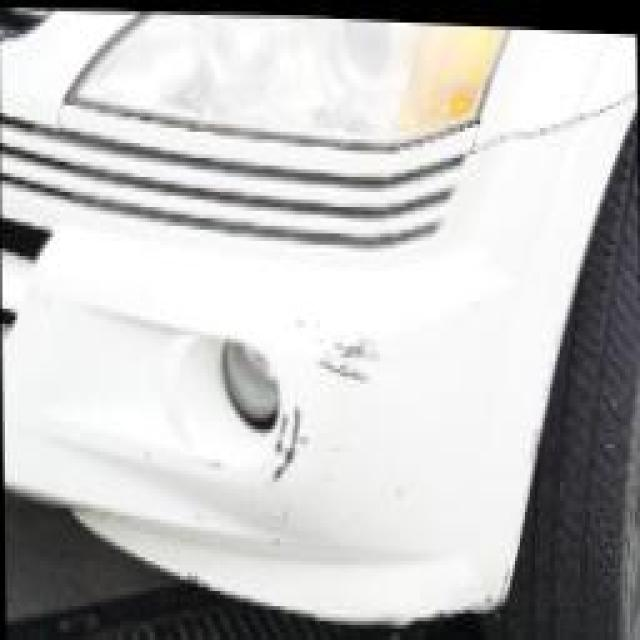Bumper: (260, 253, 403, 523)
